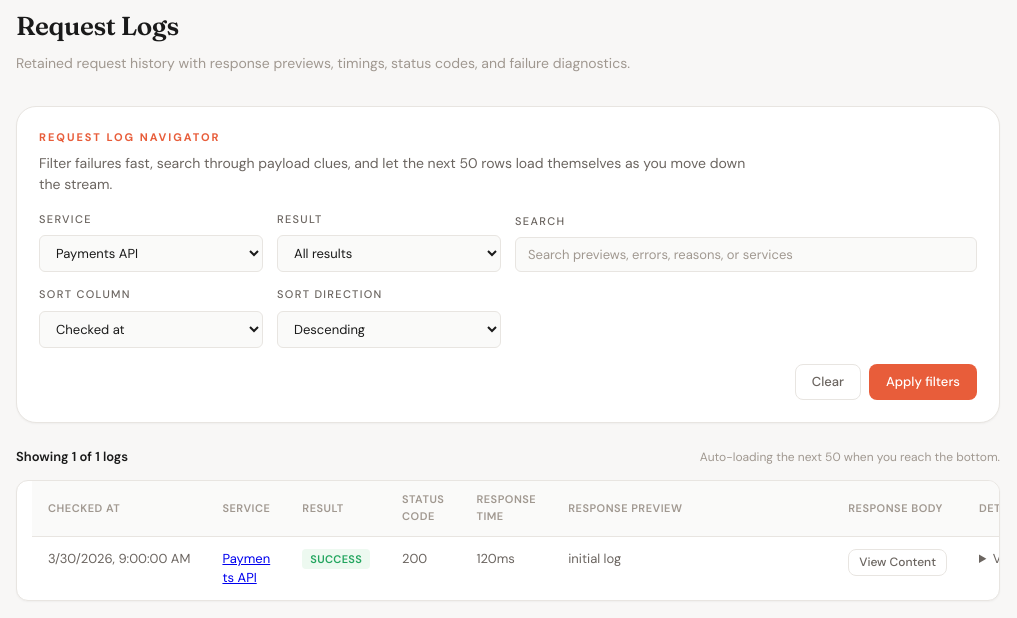
Test: RequestLogsPage › submits result, search, and ordering controls to the API
Expected: the text "initial log" is shown, [568,550,621,567]
Select "Failure" in the dropdown labelled "Result": (389, 254) [277,235,501,272]
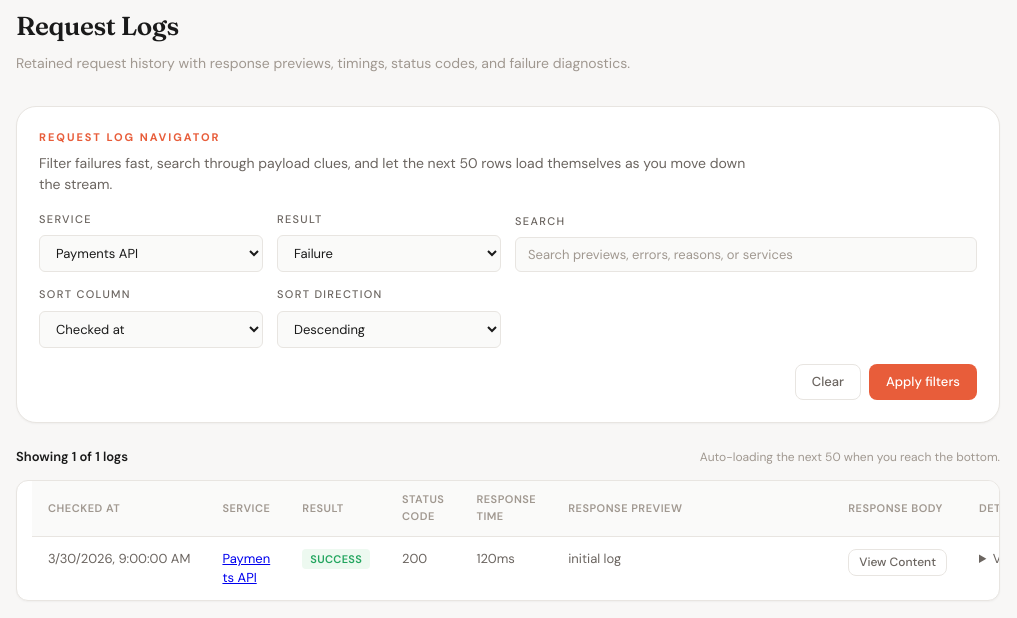
In the search field labelled "Search": (746, 255) [515,237,977,272], type "timeout"
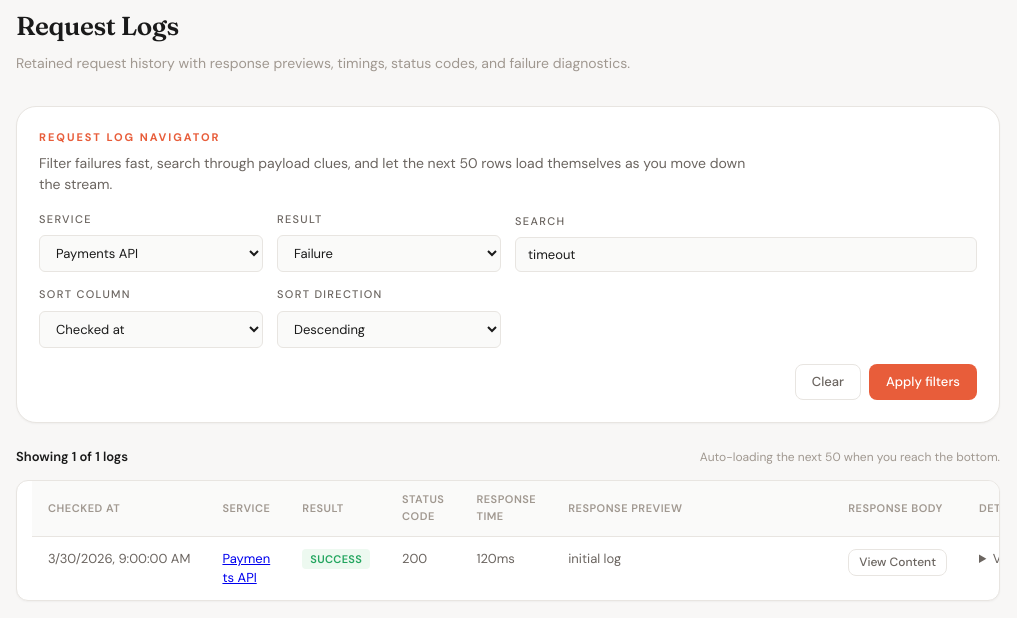
Select "Status code" in the dropdown labelled "Sort column": (151, 329) [39,311,263,348]
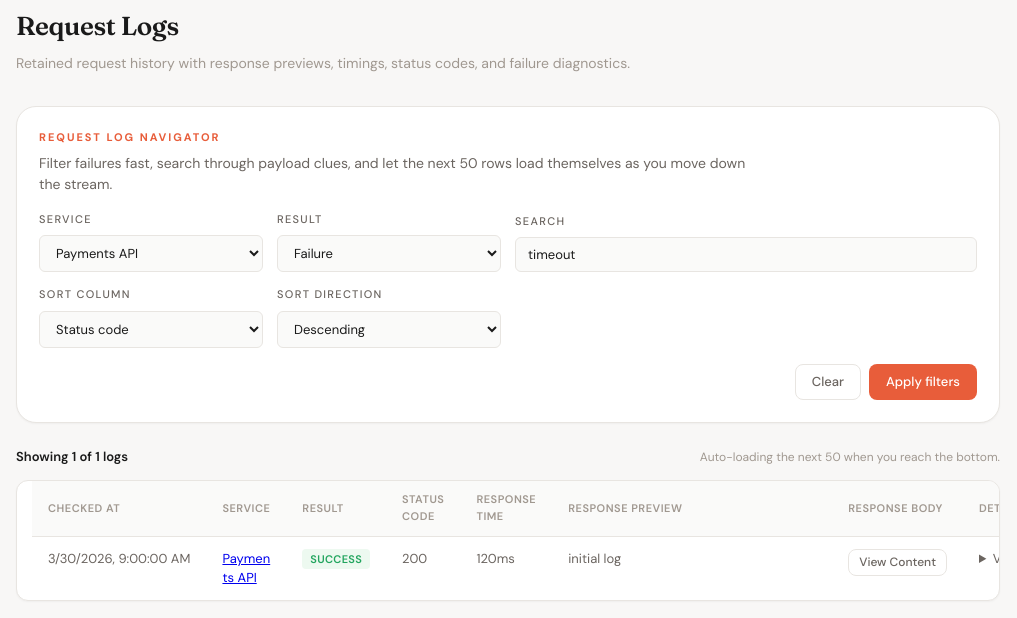
Select "Ascending" in the dropdown labelled "Sort direction": (389, 329) [277,311,501,348]
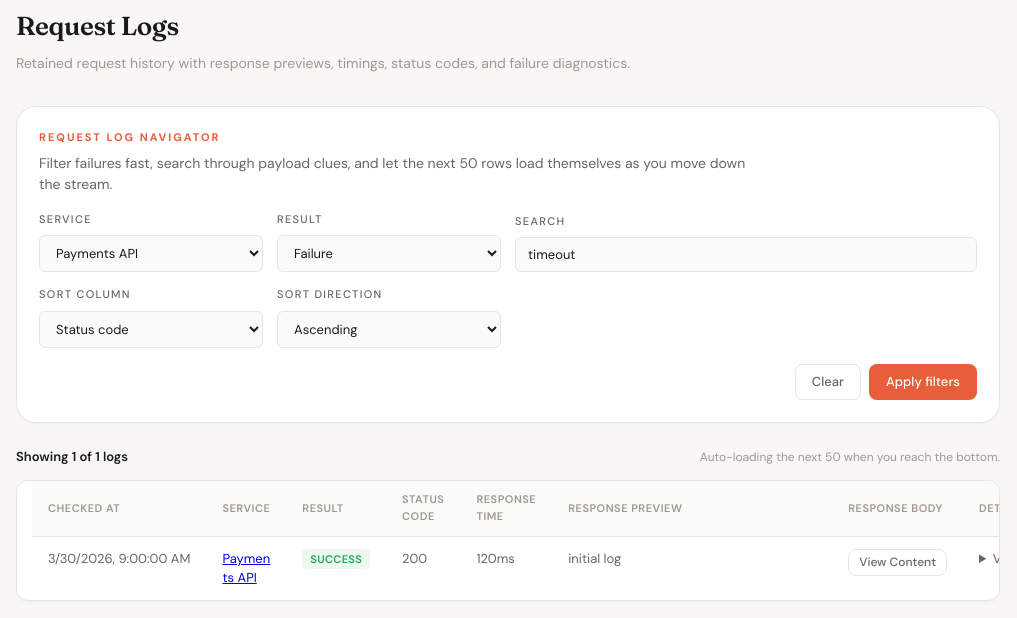
Click the button "Apply filters": (923, 382) [869,364,977,400]
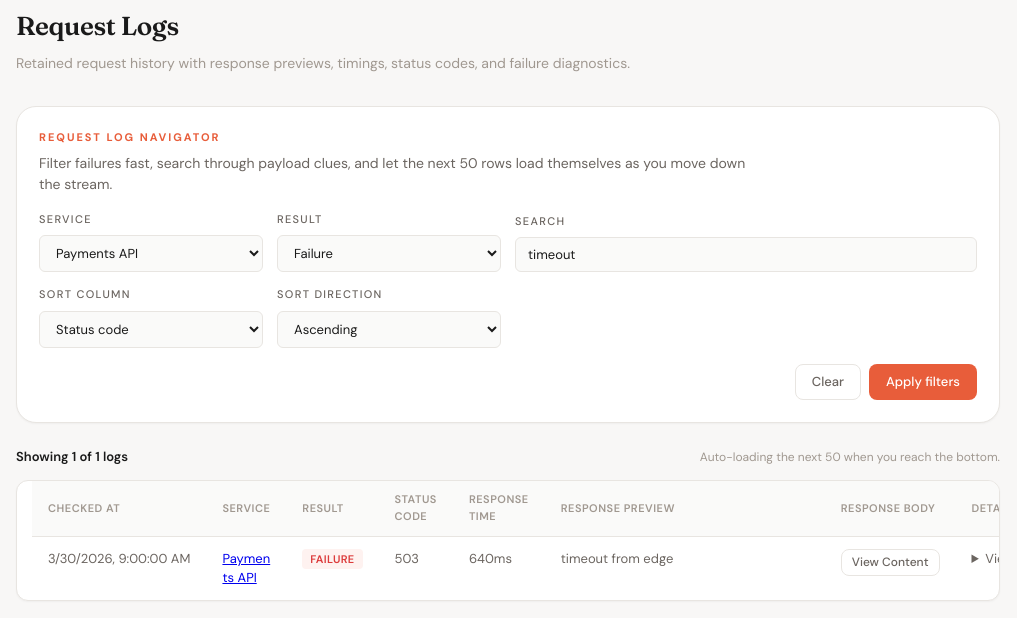
Result: the text "timeout from edge" is shown at [561,550,673,567]
